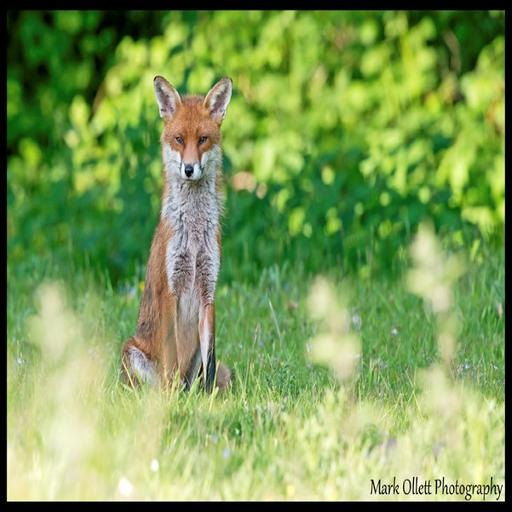Fox: (118, 71, 243, 402)
